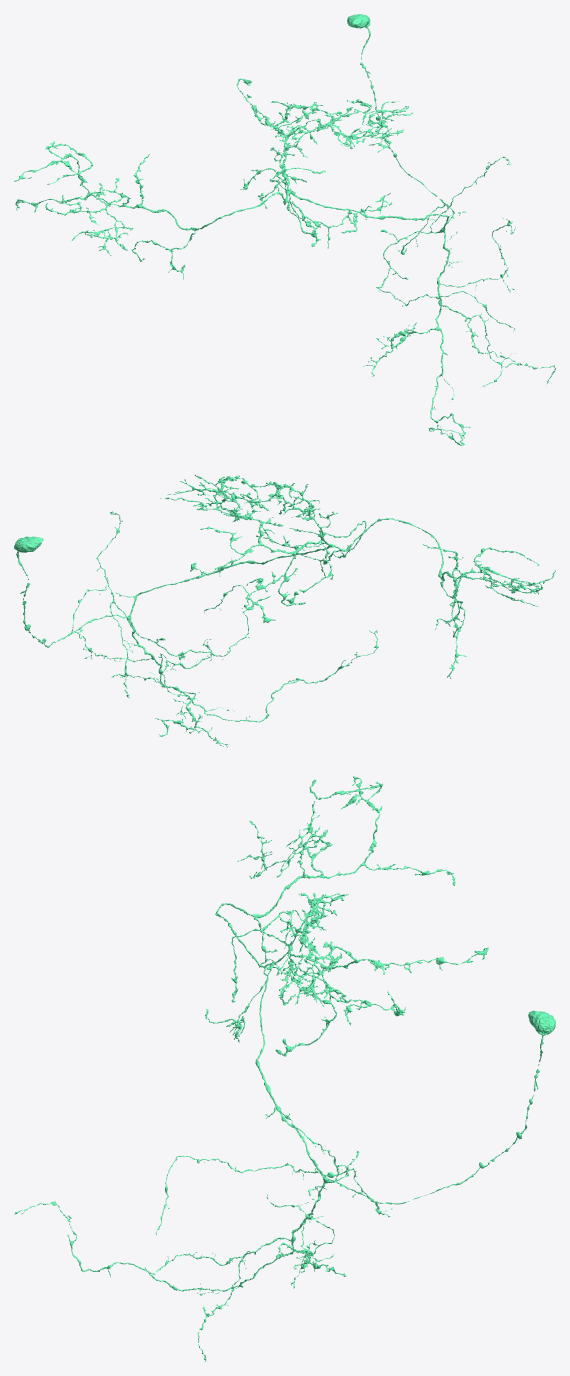
Rendered from VFB_fw024742.glb.
3 renders of one model, top to bottom at view 1: azimuth 30°, elevation 25°; view 2: azimuth 150°, elevation 25°; view 3: azimuth 270°, elevation 25°, orthographic. The views are drawn at different scales.
Parts seen in each view (by area): view 1: VFB_fw024742; view 2: VFB_fw024742; view 3: VFB_fw024742.
Boxes of the visible parts, box(x1,y1,x2,y2) form: VFB_fw024742: box(14, 14, 555, 445); VFB_fw024742: box(14, 474, 555, 747); VFB_fw024742: box(14, 776, 555, 1361).
Bounding box in the file's own units: 0.0845 × 0.0506 × 0.0712.
